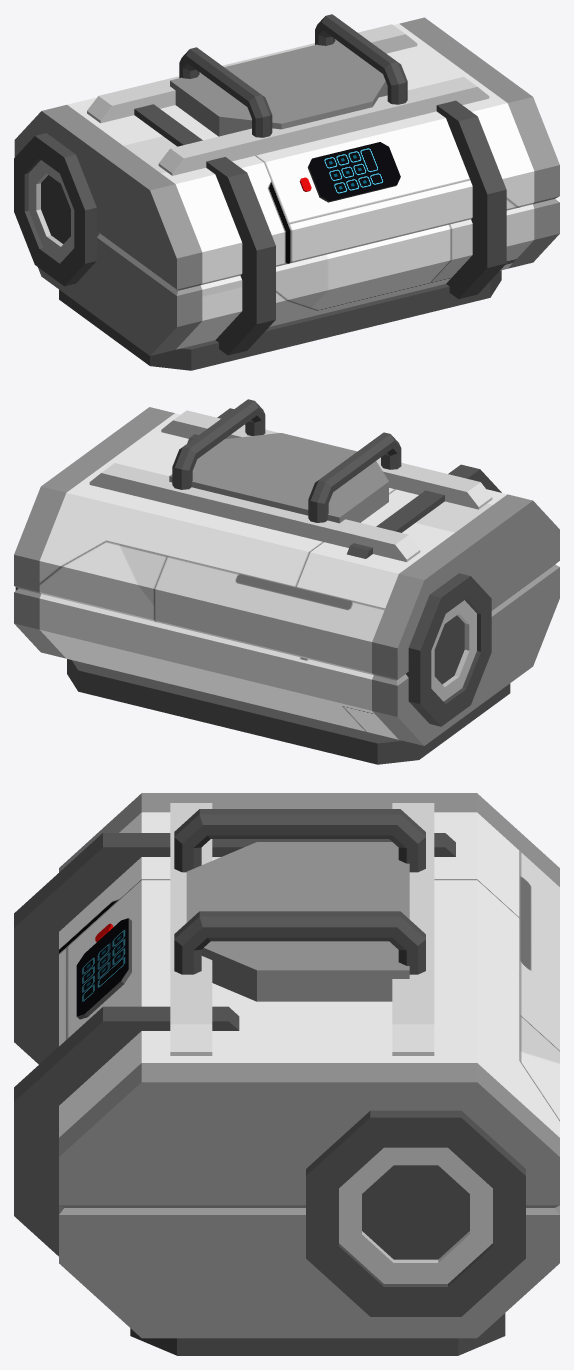
The model's file is SM_Container_Medium_1.fbx.
3 views of the same model, one above another, from view 1: azimuth 30°, elevation 25°; view 2: azimuth 150°, elevation 25°; view 3: azimuth 270°, elevation 25° (orthographic). The views are drawn at different scales.
Visible parts, largest first — view 1: SM_Container_Medium_1; view 2: SM_Container_Medium_1; view 3: SM_Container_Medium_1.
Boxes of the visible parts, x1,y1,x2,y2 form: SM_Container_Medium_1: (14, 14, 559, 370); SM_Container_Medium_1: (14, 399, 559, 764); SM_Container_Medium_1: (14, 793, 559, 1355).
Bounding box in the file's own units: 135 × 75.86 × 103.
